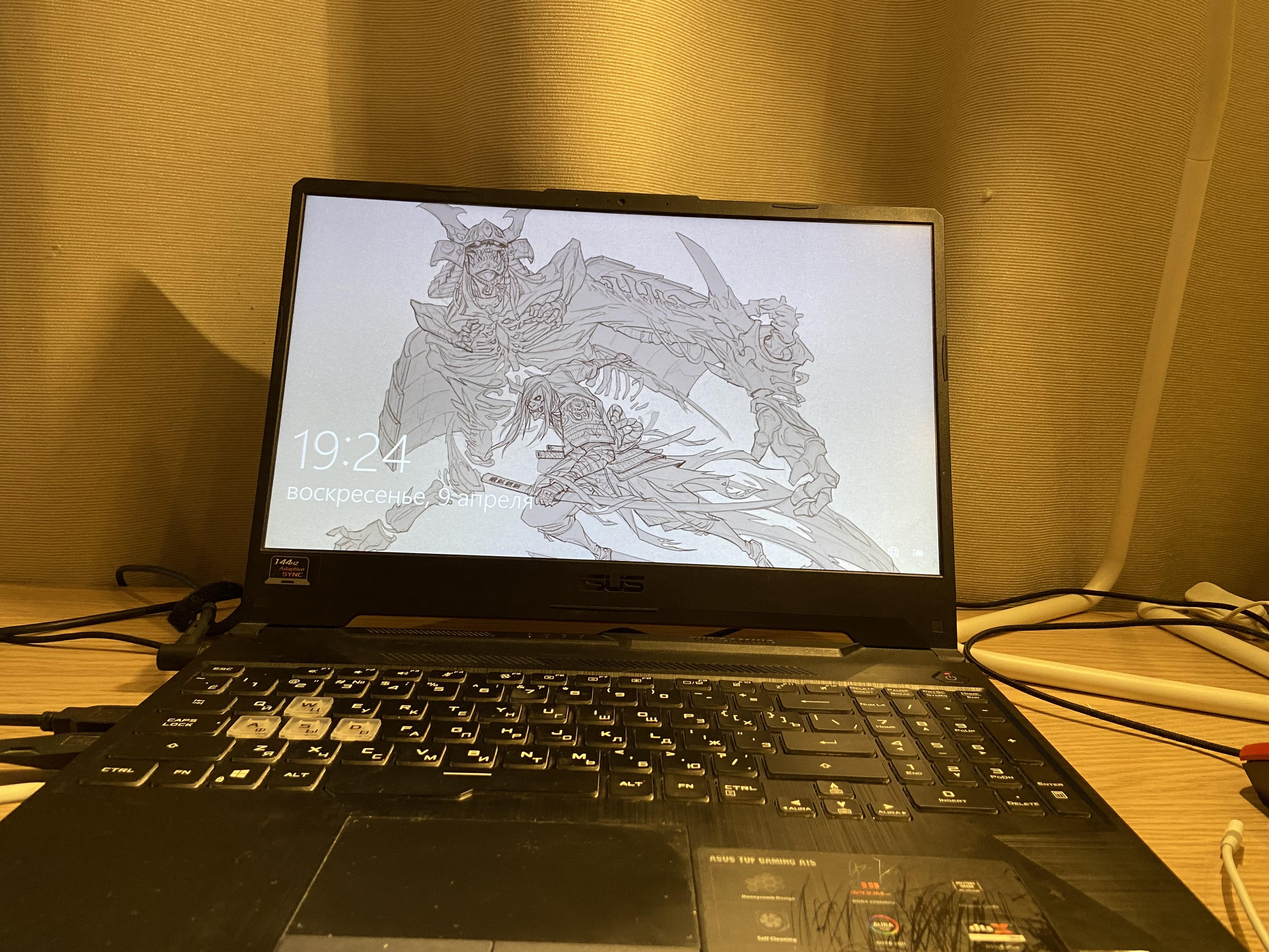monitor: (250, 172, 977, 653)
